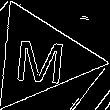M_N: (12, 30, 68, 85)
